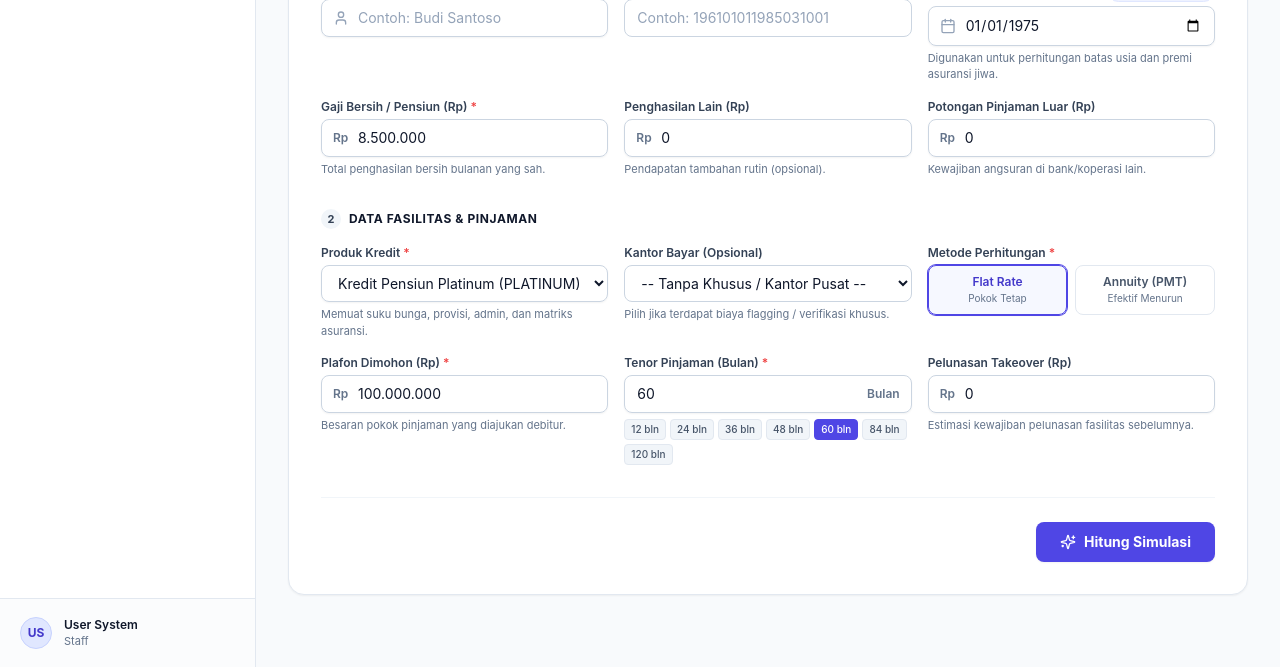
Test: TASK-051: Save Simulation Flow Tests › should handle error gracefully when POST /simulations fails
The image size is (1280, 667).
(page scrolled)
Click the button with test id "calculate-submit-btn".
click(1126, 542)  # box [1036,522,1215,562]
(page scrolled)
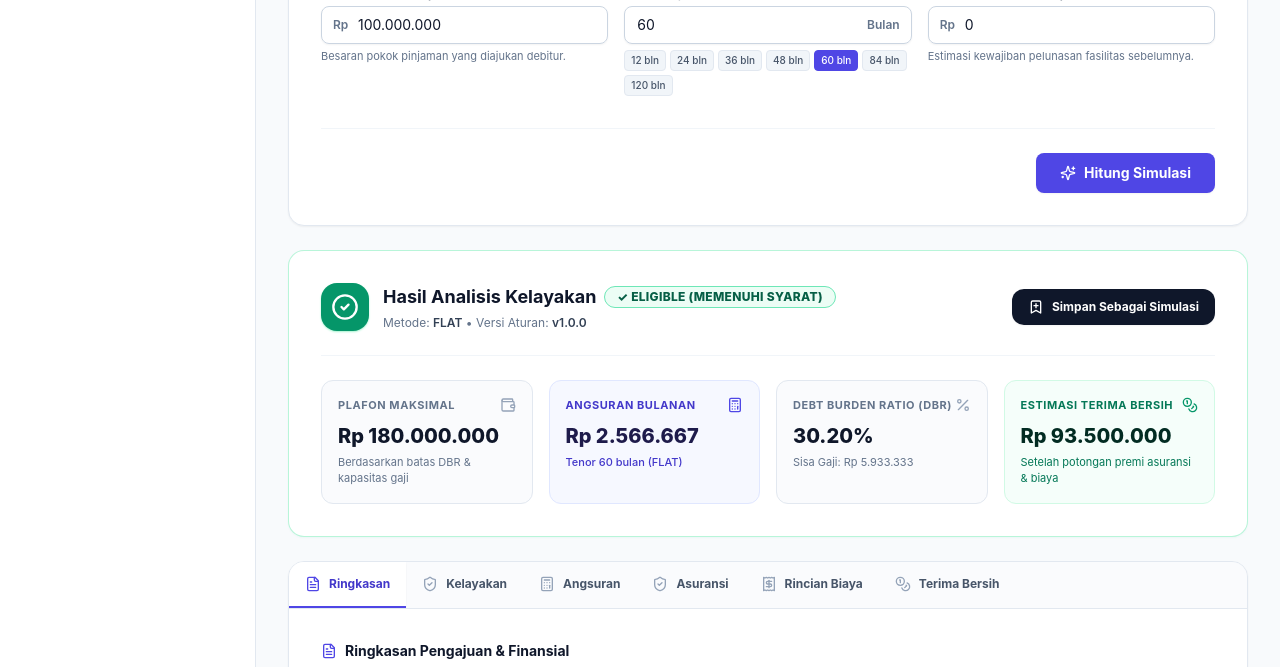
Result: the button with test id "save-simulation-btn" is shown
Click the button with test id "save-simulation-btn".
click(1114, 307)  # box [1012,289,1215,325]
(page scrolled)
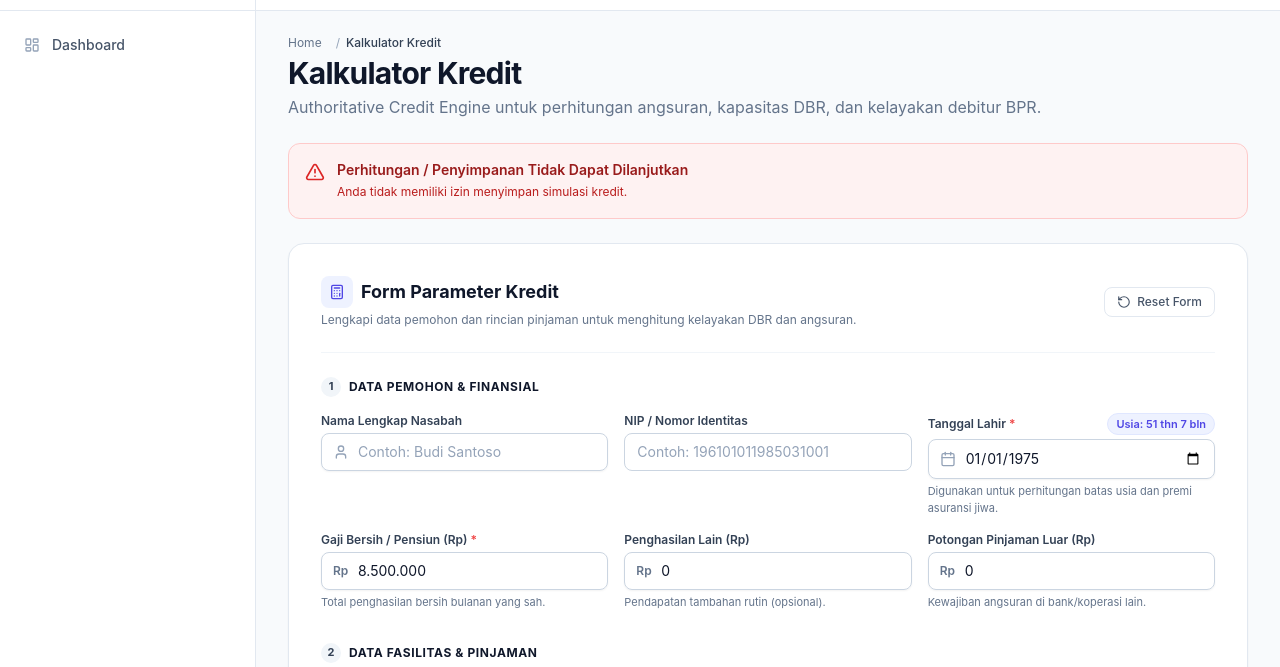
Result: the message with test id "calculator-error-banner" is shown at [288,143,1248,218]
Result: the text "Anda tidak memiliki izin menyimpan simulasi kredit." is shown at [337,184,627,199]
